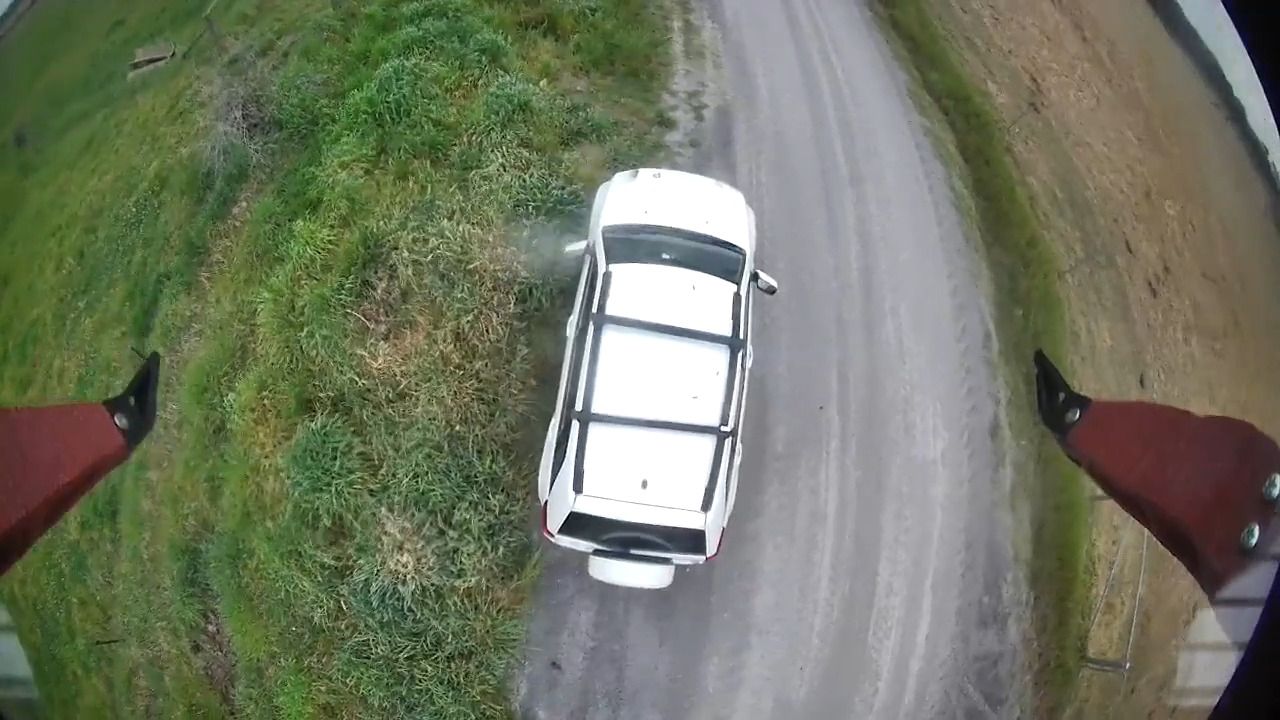Car: (538, 168, 777, 589)
